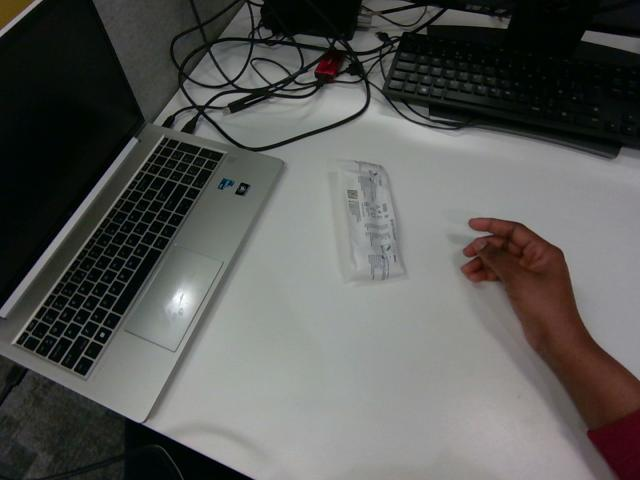syringe: (336, 160, 404, 281)
